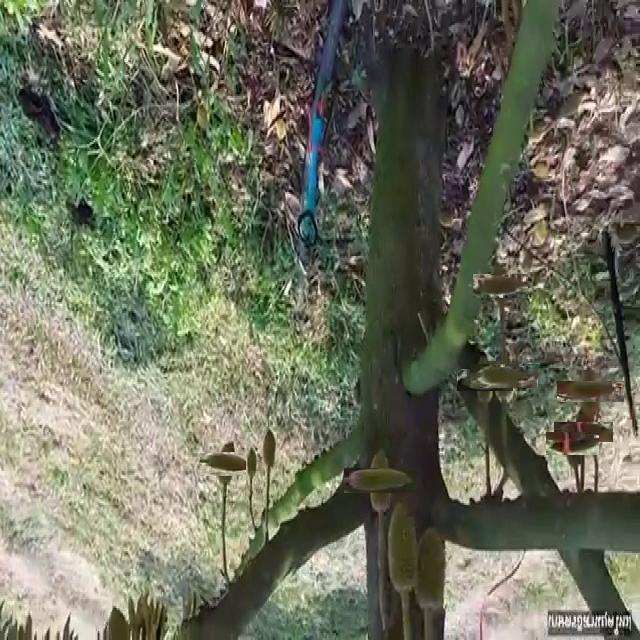durian: (409, 522, 450, 612), (386, 496, 422, 595), (356, 456, 406, 505), (481, 353, 528, 399), (568, 369, 614, 414), (480, 266, 520, 306), (564, 412, 603, 453), (208, 444, 247, 484), (465, 360, 505, 399), (553, 424, 592, 462), (262, 425, 279, 472), (246, 446, 258, 480)
